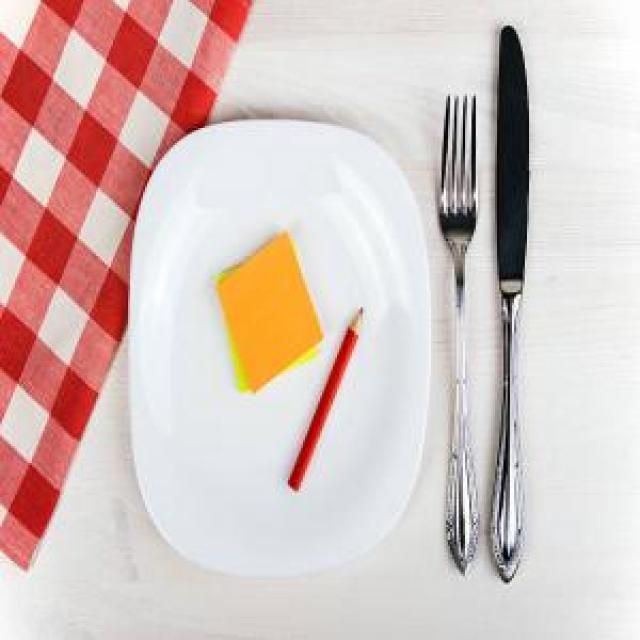knife: (488, 24, 534, 582)
